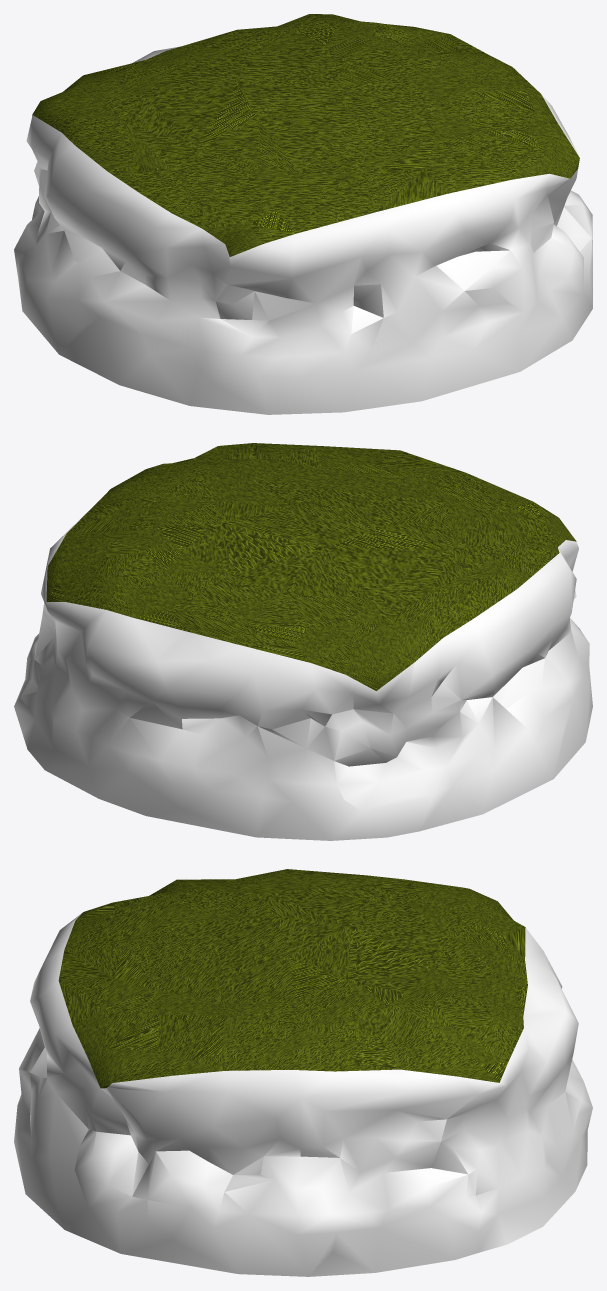
The model's file is PlatformGrass5_LOD1.fbx.
3 renders of one model, top to bottom at view 1: azimuth 30°, elevation 25°; view 2: azimuth 150°, elevation 25°; view 3: azimuth 270°, elevation 25°, orthographic. The views are drawn at different scales.
Visible parts, largest first — view 1: Mesh; view 2: Mesh; view 3: Mesh.
Part boxes in pixels (left/top/right/bottom): Mesh: left=14, top=14, right=592, bottom=414; Mesh: left=14, top=443, right=592, bottom=840; Mesh: left=14, top=869, right=592, bottom=1276.
Bounding box in the file's own units: 4051 × 1588 × 3981.
